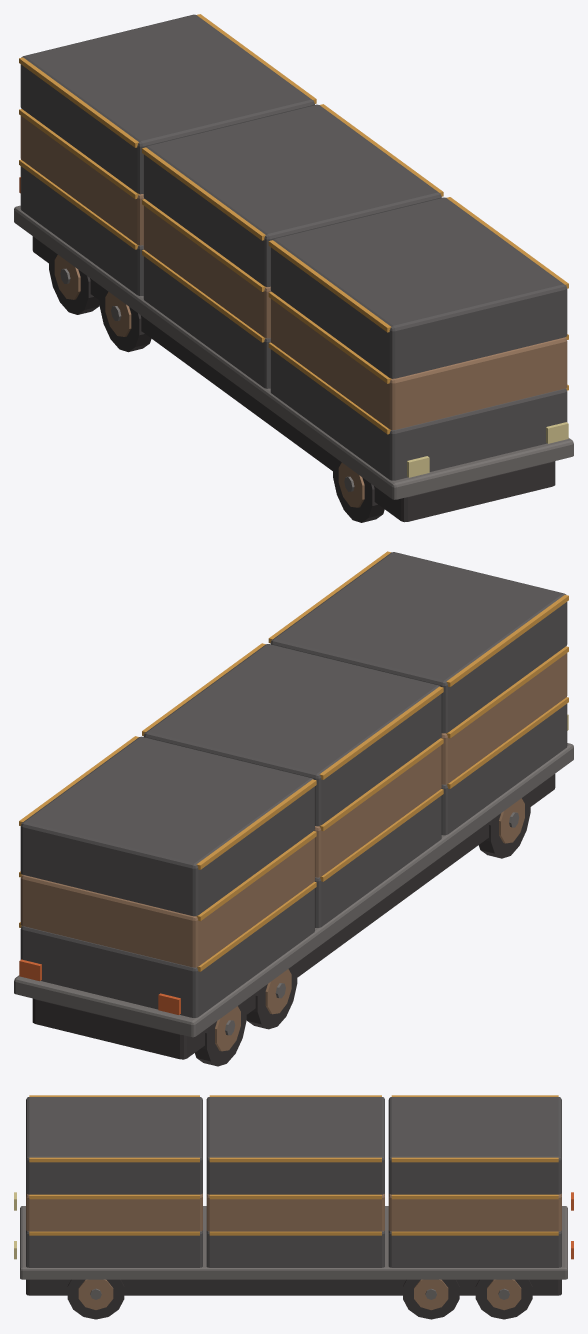
The model's file is rn2-forja-truck.glb.
3 renders of one model, top to bottom at view 1: azimuth 30°, elevation 25°; view 2: azimuth 150°, elevation 25°; view 3: azimuth 270°, elevation 25°, orthographic. The views are drawn at different scales.
Visible parts, largest first — view 1: rn2_forja_truck_body, rn2_forja_truck_glow; view 2: rn2_forja_truck_body, rn2_forja_truck_glow; view 3: rn2_forja_truck_body, rn2_forja_truck_glow.
Part boxes in pixels (x1,y1,x2,y2): rn2_forja_truck_body: (14,14,573,522); rn2_forja_truck_glow: (19,14,568,477); rn2_forja_truck_body: (14,552,573,1066); rn2_forja_truck_glow: (19,551,568,1014); rn2_forja_truck_body: (20,1097,567,1319); rn2_forja_truck_glow: (14,1095,573,1259).
Size of the model in its own units: 2.48 by 3 by 9.22.
